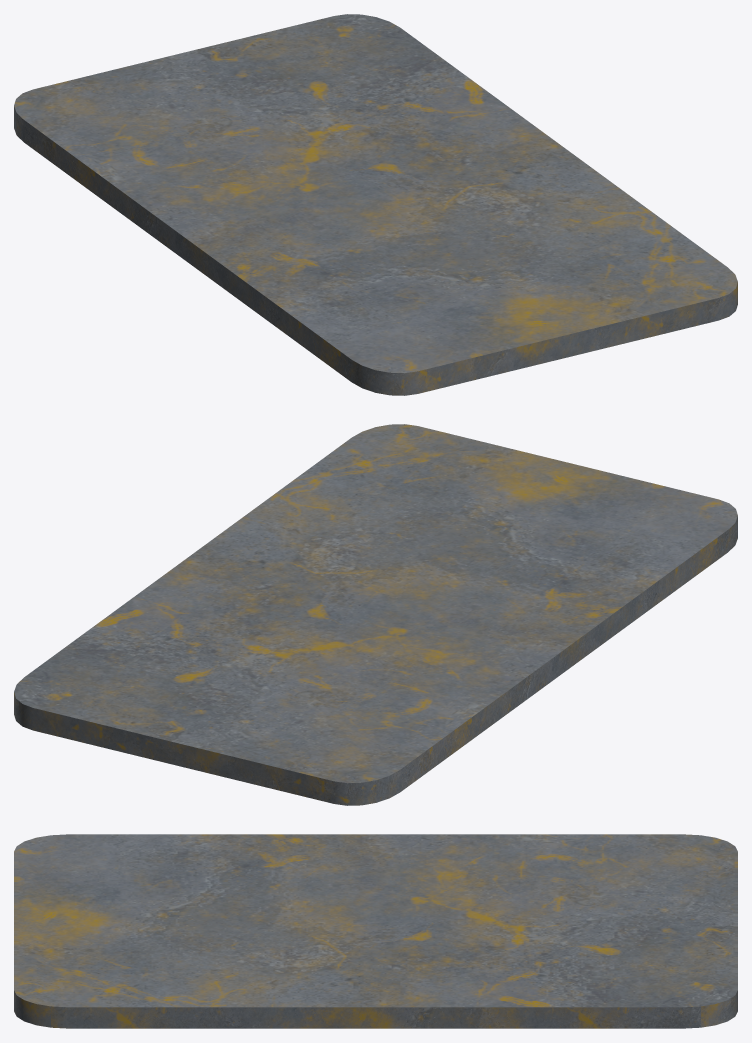
File: bottom bit.fbx
3 views of the same model, one above another, from view 1: azimuth 30°, elevation 25°; view 2: azimuth 150°, elevation 25°; view 3: azimuth 270°, elevation 25° (orthographic). The views are drawn at different scales.
Visible parts, largest first — view 1: pCube7; view 2: pCube7; view 3: pCube7.
Boxes of the visible parts, x1,y1,x2,y2 form: pCube7: [14, 14, 737, 395]; pCube7: [14, 424, 737, 805]; pCube7: [14, 834, 737, 1028].
Bounding box in the file's own units: 6.88 × 0.3953 × 12.18.
